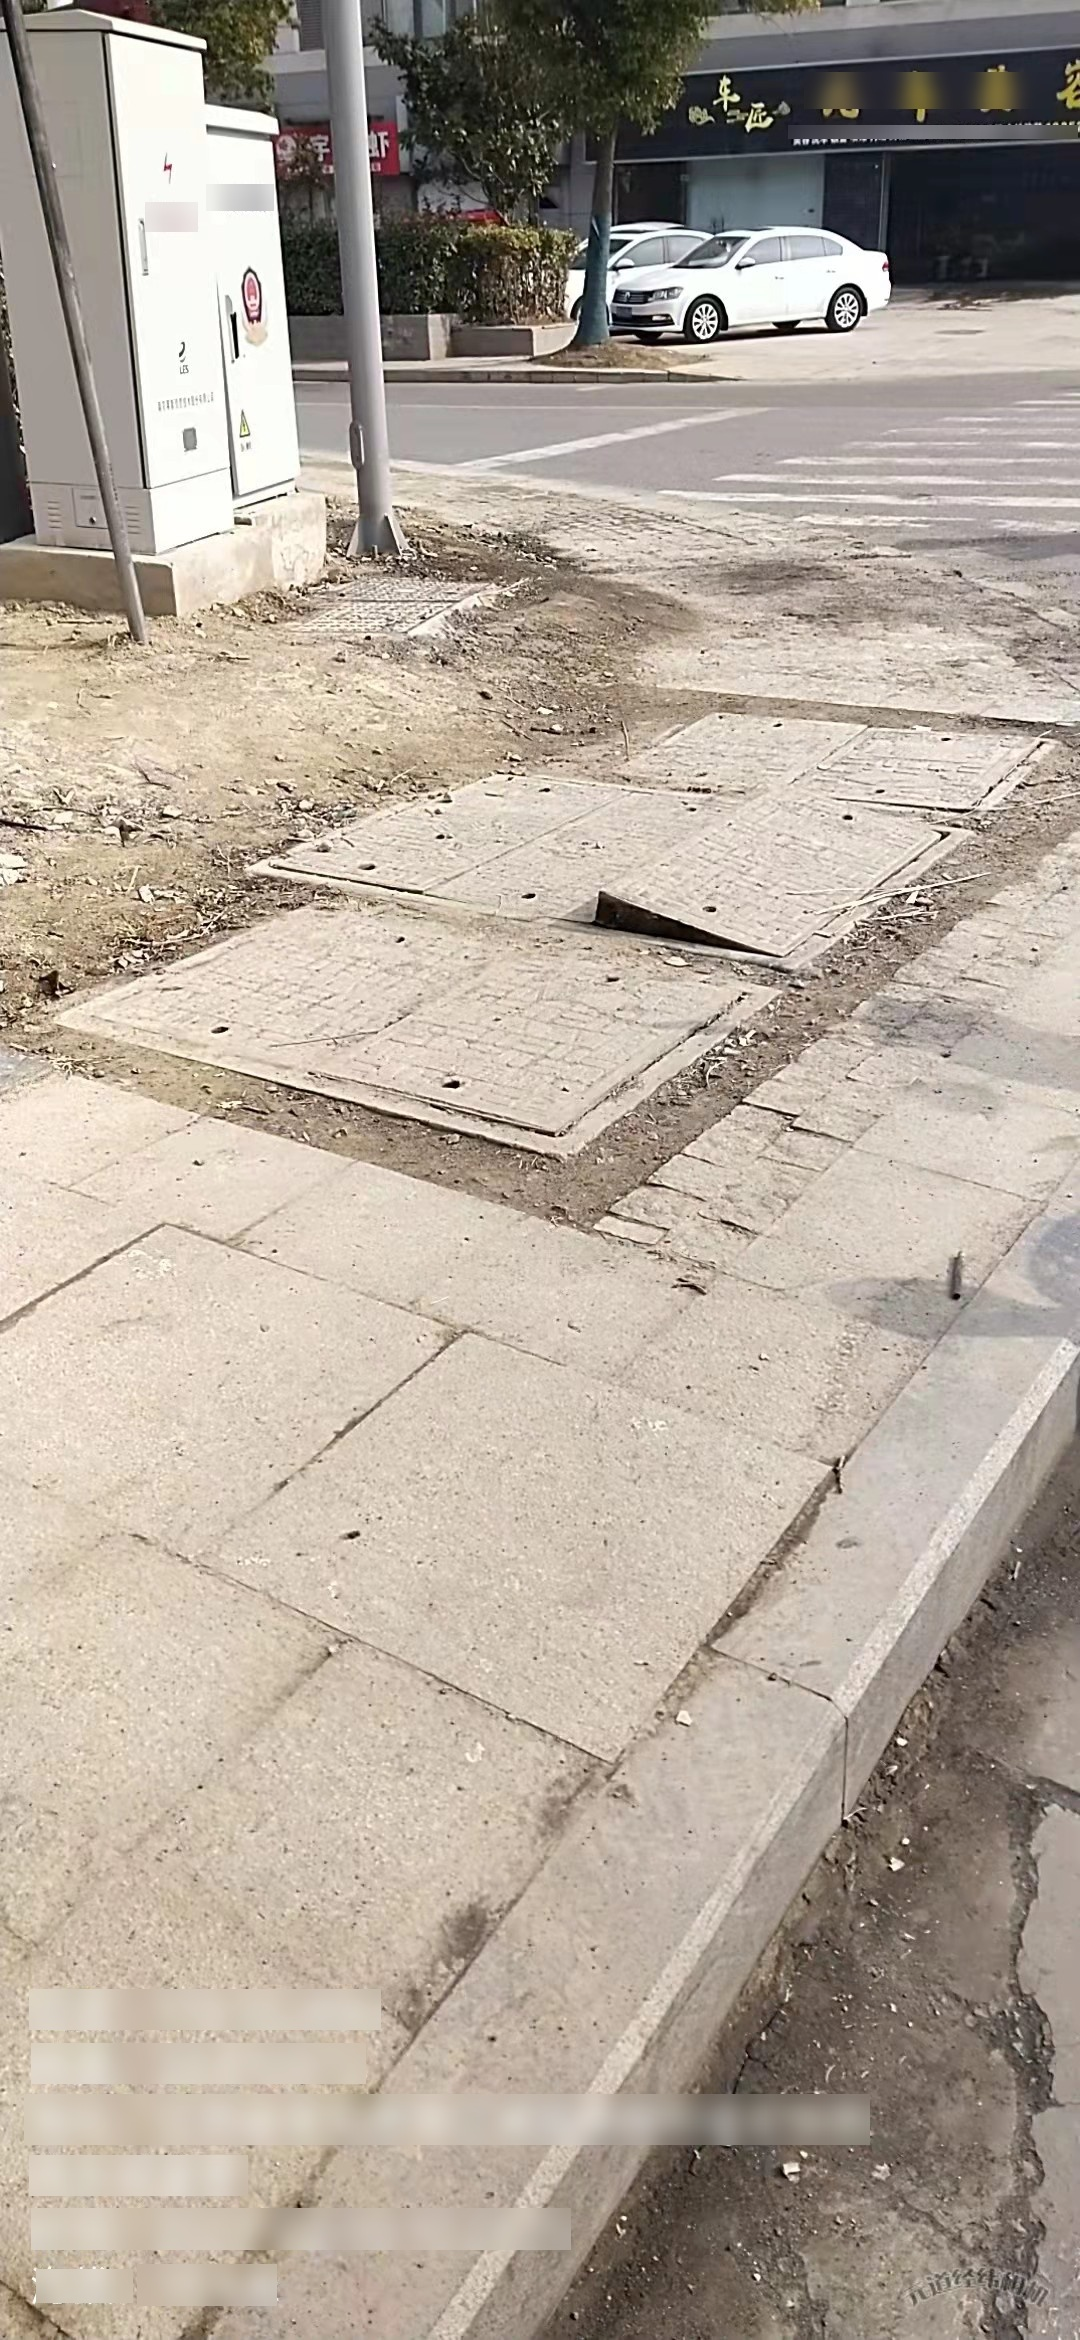good: (43, 898, 782, 1171)
uncovered: (239, 761, 974, 976)
